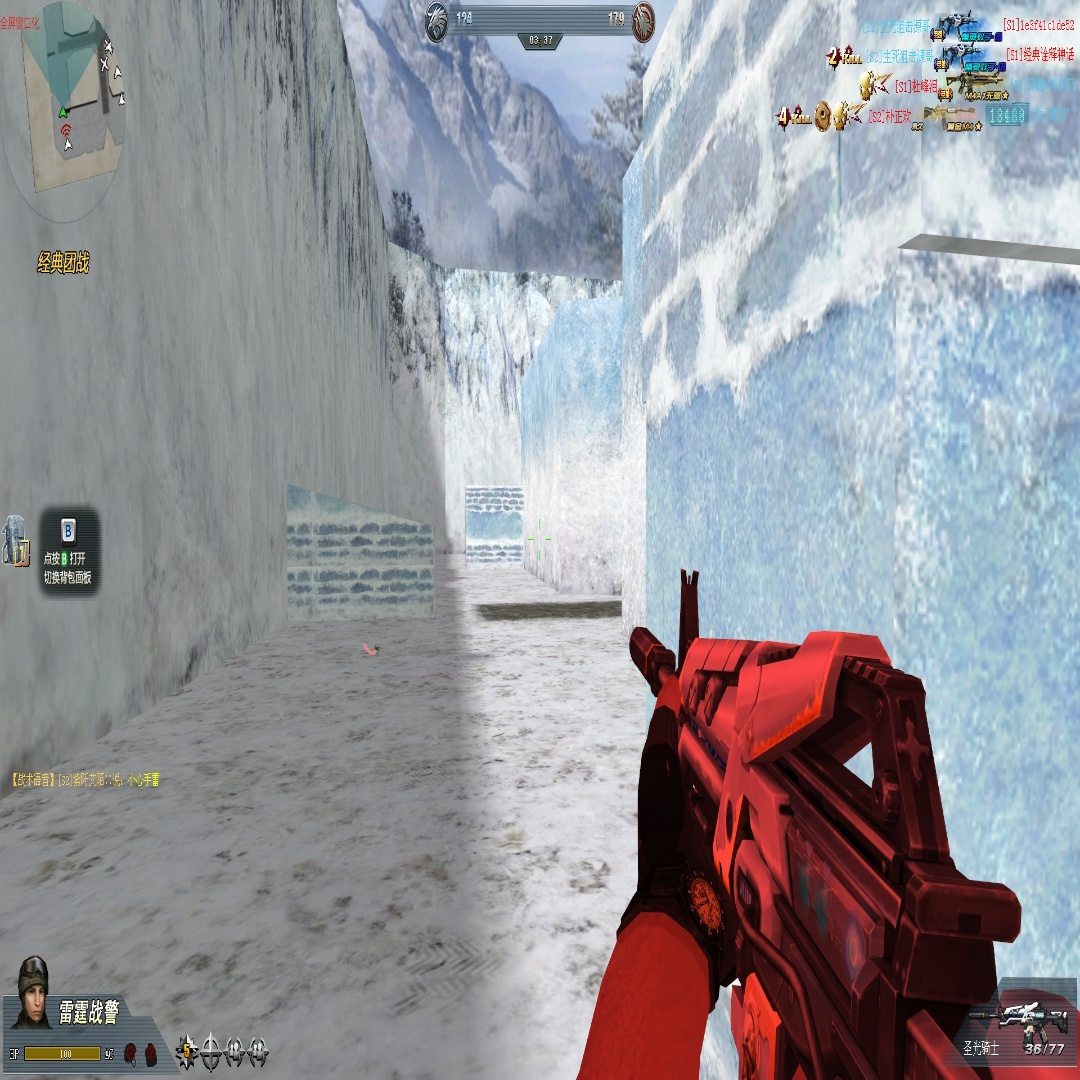t: (58, 100, 73, 154)
